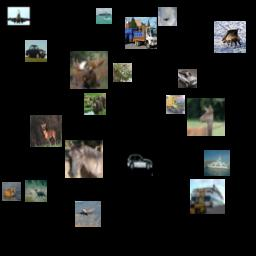airplane: (75, 201, 101, 227), (6, 3, 32, 29), (158, 7, 177, 26)
automobile: (127, 150, 153, 176), (25, 40, 47, 62), (178, 69, 197, 88)
bird: (2, 182, 21, 201)
deer: (187, 98, 225, 136), (70, 51, 108, 89), (30, 115, 62, 147), (214, 21, 246, 53), (84, 93, 106, 115), (25, 180, 47, 202)
frog: (113, 63, 132, 82)
ship: (190, 179, 225, 214), (204, 150, 230, 176), (96, 8, 112, 24)
truck: (125, 17, 157, 49), (166, 95, 185, 114)
